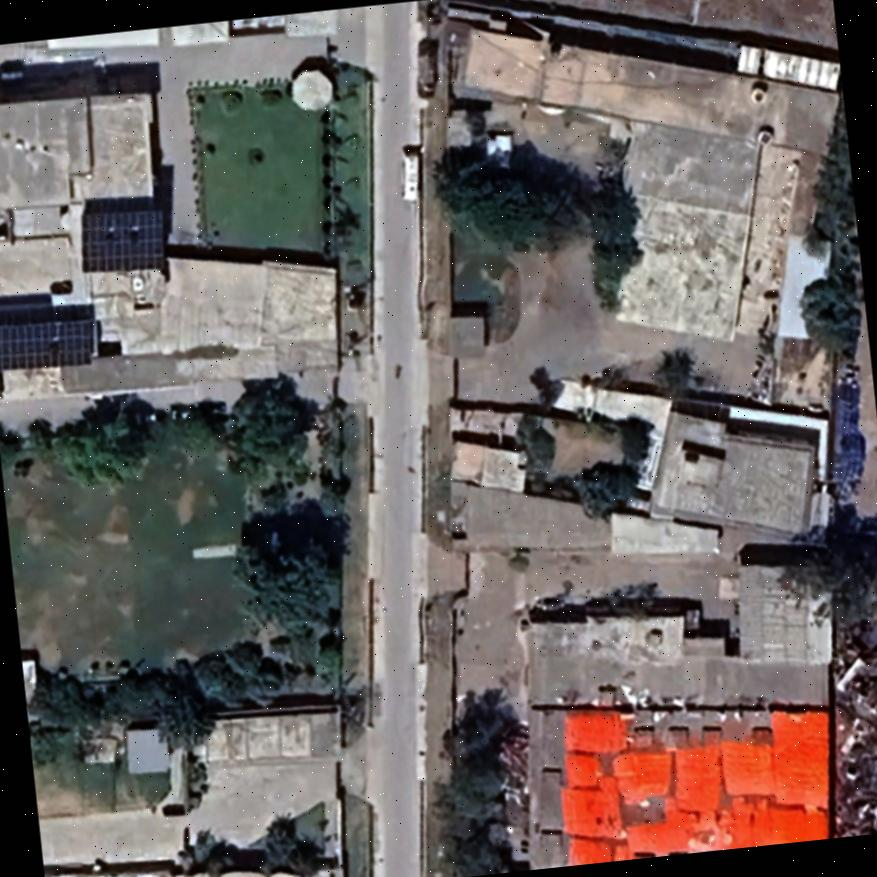Solarpanel: (79, 200, 171, 272), (0, 311, 104, 371)
